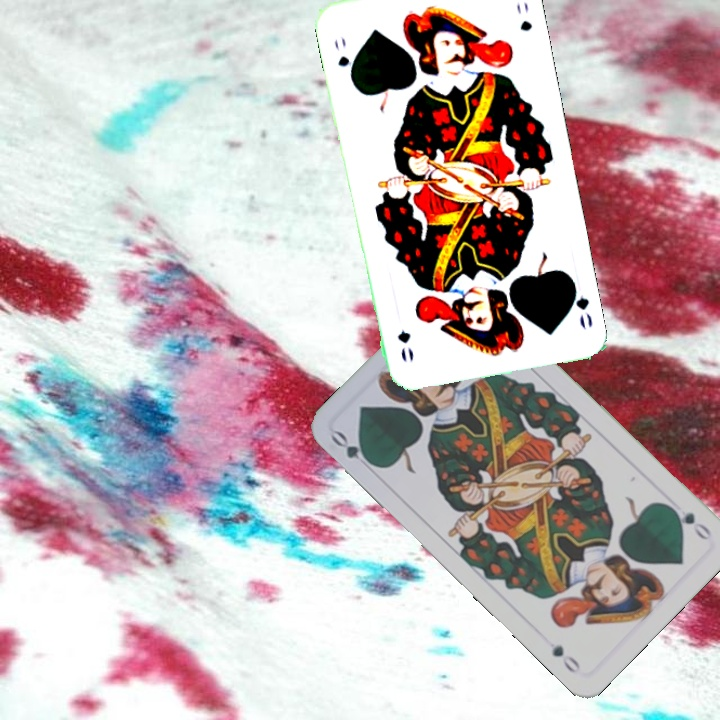GO: (327, 426, 379, 474), (664, 501, 714, 544), (566, 276, 595, 333), (330, 34, 357, 84)
